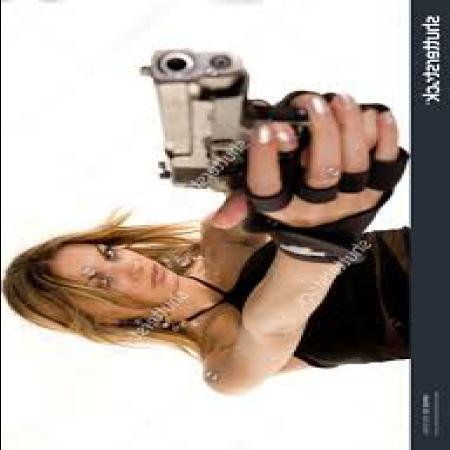Pistol: (132, 48, 370, 196)
